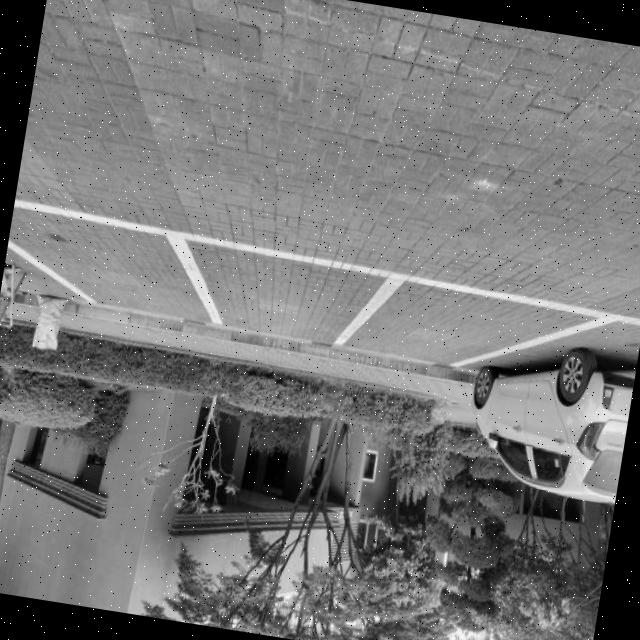Car: (437, 332, 638, 538)
Free: (318, 241, 621, 408), (194, 186, 413, 375), (0, 186, 243, 337)
